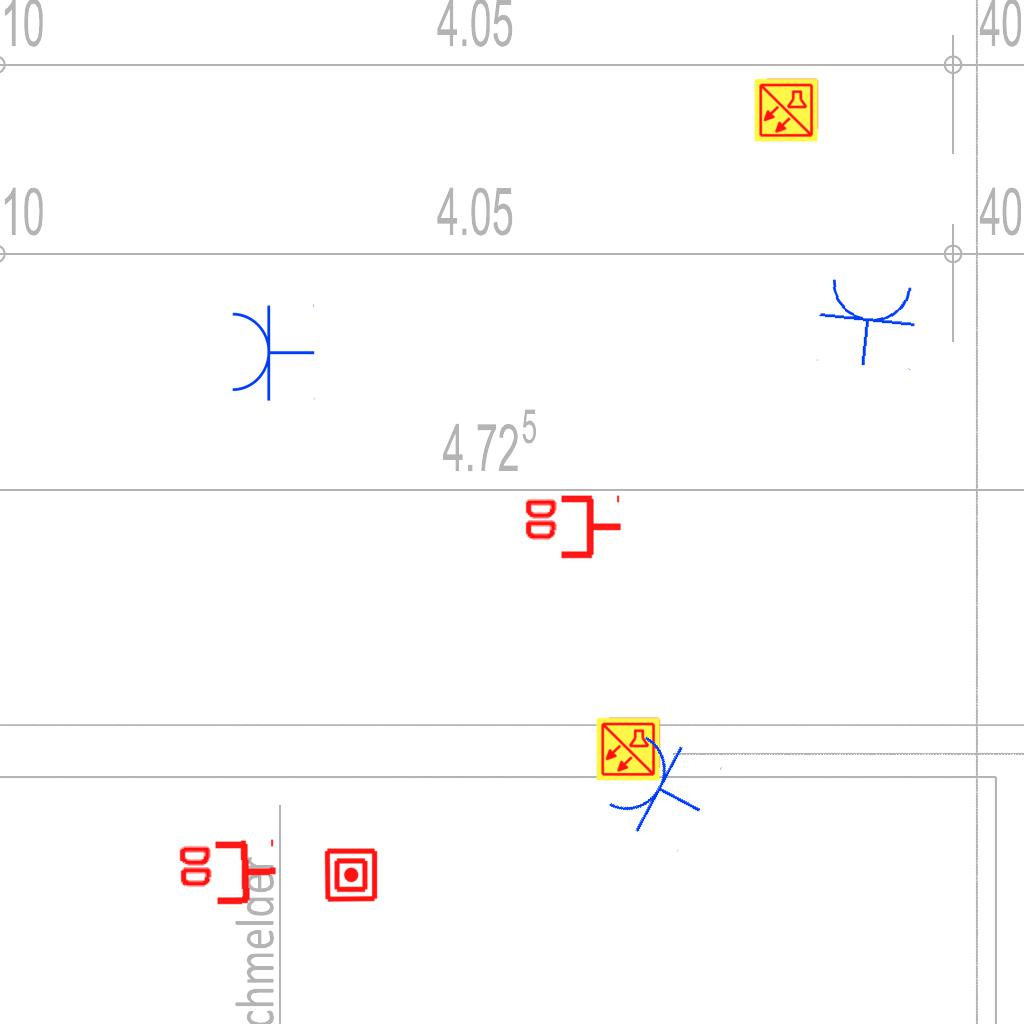Datenanschluss_zweifach: (174, 838, 281, 911), (521, 494, 624, 563)
NAM-Nichtautomatischer_Melder: (323, 847, 379, 903)
OKW_Multisensormelder_(Kombination_optischer_Rauch-Kahlenmonoxid_Waerme-Melder): (753, 77, 819, 143), (595, 716, 661, 782)
Schukosteckdose_einfach: (600, 724, 724, 855), (813, 274, 923, 371), (228, 302, 315, 402)
